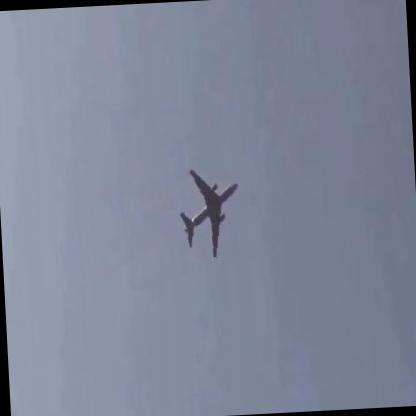plane: (174, 167, 241, 259)
